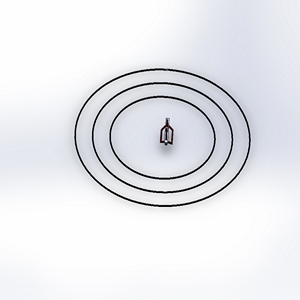circle: (66, 63, 257, 214)
submarine: (151, 115, 187, 154)
